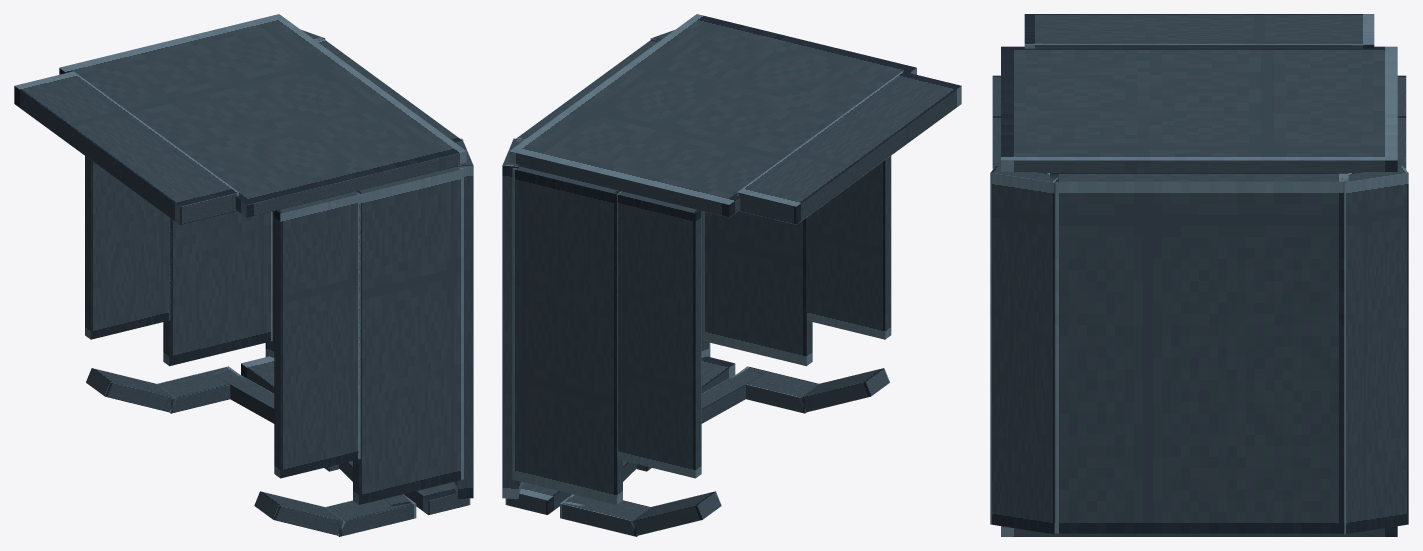
The model's file is bench_helmet_2.obj.
3 renders of one model, left to right at view 1: azimuth 30°, elevation 25°; view 2: azimuth 150°, elevation 25°; view 3: azimuth 270°, elevation 25°, orthographic. The views are drawn at different scales.
Visible parts, largest first — view 1: geometry; view 2: geometry; view 3: geometry.
Boxes of the visible parts, x1,y1,x2,y2 form: geometry: (14, 14, 473, 536); geometry: (502, 14, 961, 536); geometry: (990, 14, 1408, 536).
Bounding box in the file's own units: 0.2162 × 0.25 × 0.2493.
